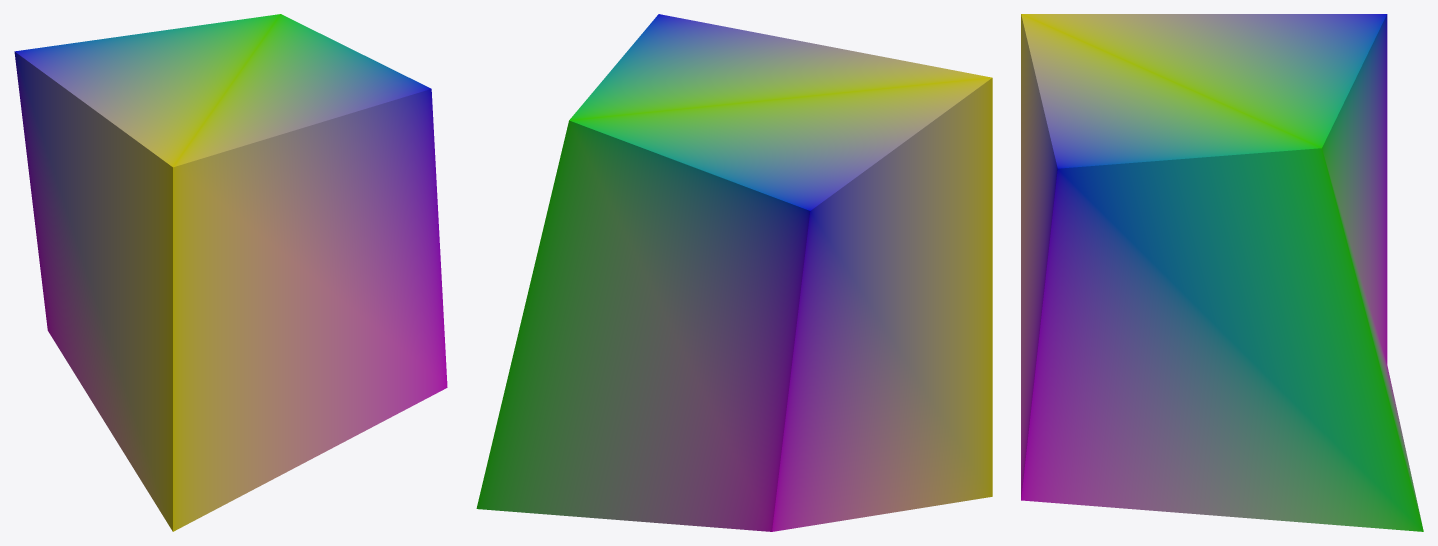
The model's file is cubeColor.glb.
3 views of the same model, side by side, from view 1: azimuth 30°, elevation 25°; view 2: azimuth 150°, elevation 25°; view 3: azimuth 270°, elevation 25° (orthographic). The views are drawn at different scales.
Parts seen in each view (by area): view 1: Cube; view 2: Cube; view 3: Cube.
Boxes of the visible parts, x1,y1,x2,y2 form: Cube: (14, 14, 447, 531); Cube: (476, 14, 992, 531); Cube: (1021, 14, 1423, 531).
Bounding box in the file's own units: 2 × 2.54 × 2.2.
